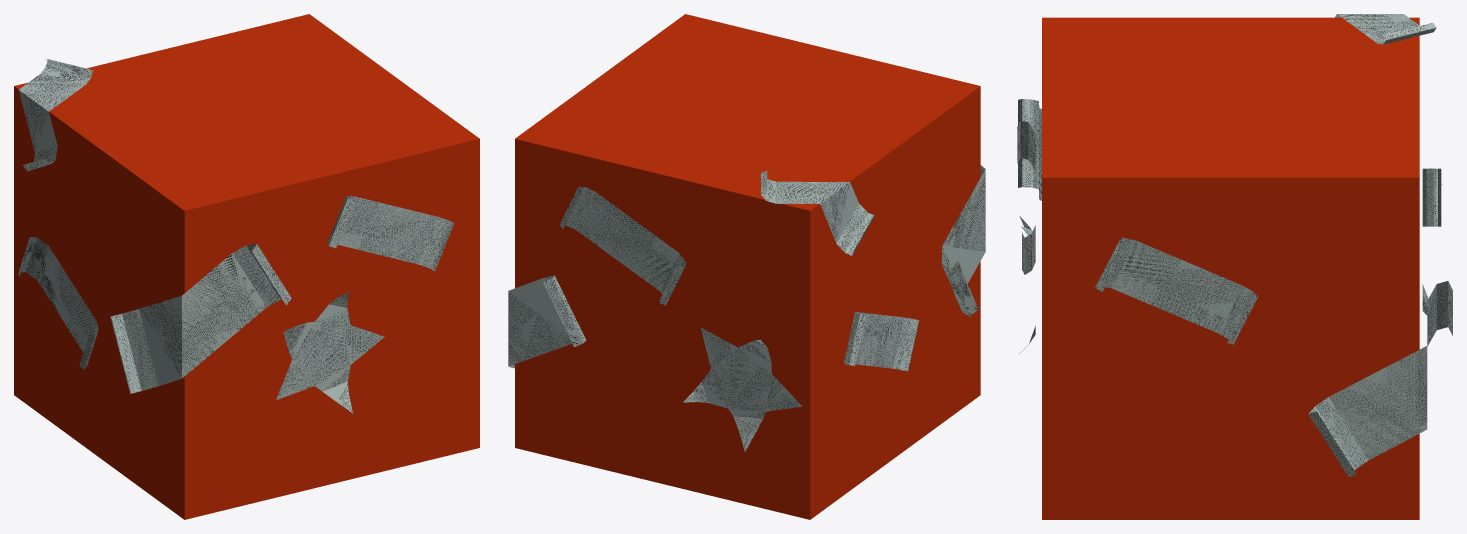
File: box_close.FBX
3 renders of one model, left to right at view 1: azimuth 30°, elevation 25°; view 2: azimuth 150°, elevation 25°; view 3: azimuth 270°, elevation 25°, orthographic. The views are drawn at different scales.
Parts seen in each view (by area): view 1: Box002, stickers, stickers_inside; view 2: Box002, stickers, stickers_inside; view 3: Box002, stickers, stickers_inside.
Part boxes in pixels (x1=…): Box002: x1=14, y1=14, x2=479, y2=519; stickers: x1=18, y1=59, x2=454, y2=413; stickers_inside: x1=18, y1=60, x2=453, y2=412; Box002: x1=515, y1=14, x2=980, y2=519; stickers: x1=508, y1=165, x2=985, y2=451; stickers_inside: x1=508, y1=170, x2=985, y2=449; Box002: x1=1042, y1=17, x2=1419, y2=519; stickers: x1=1017, y1=14, x2=1452, y2=476; stickers_inside: x1=1017, y1=14, x2=1452, y2=474.
Size of the model in its own units: 3444 by 3131 by 3482.
